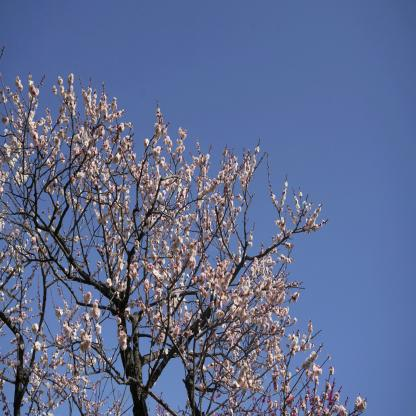Ume: (0, 44, 367, 416)
